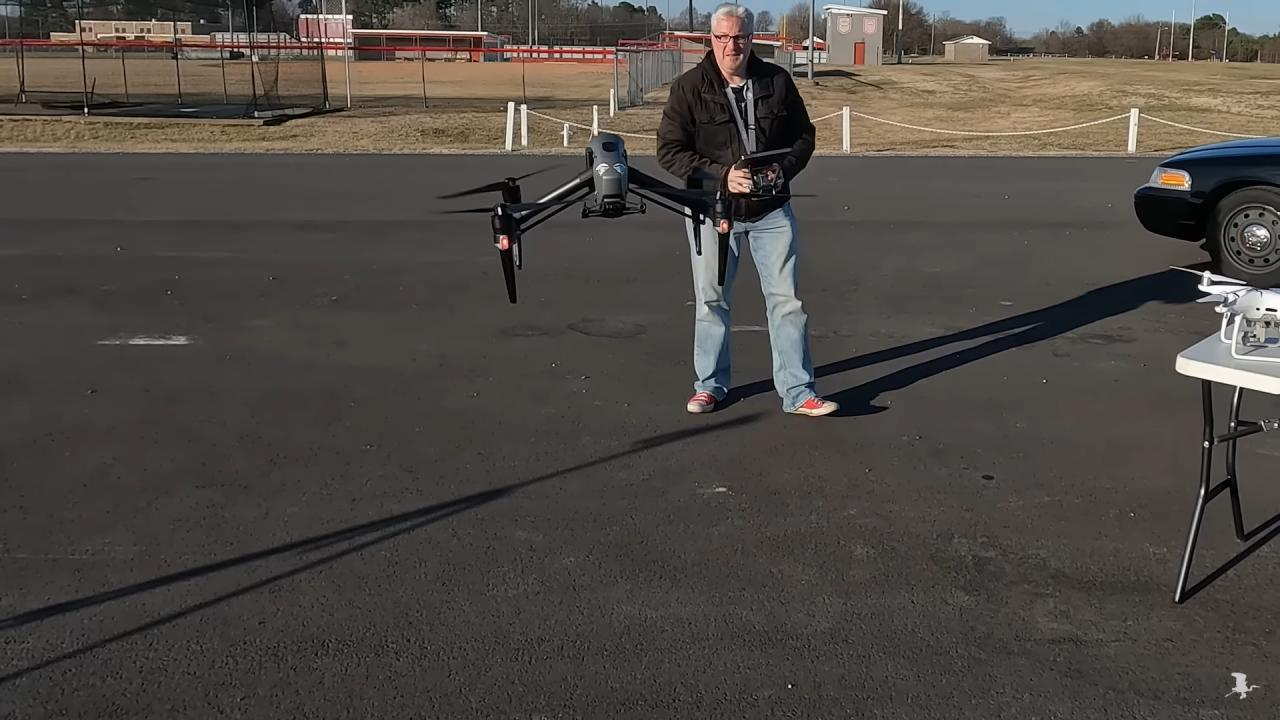Drone: (423, 128, 825, 316)
